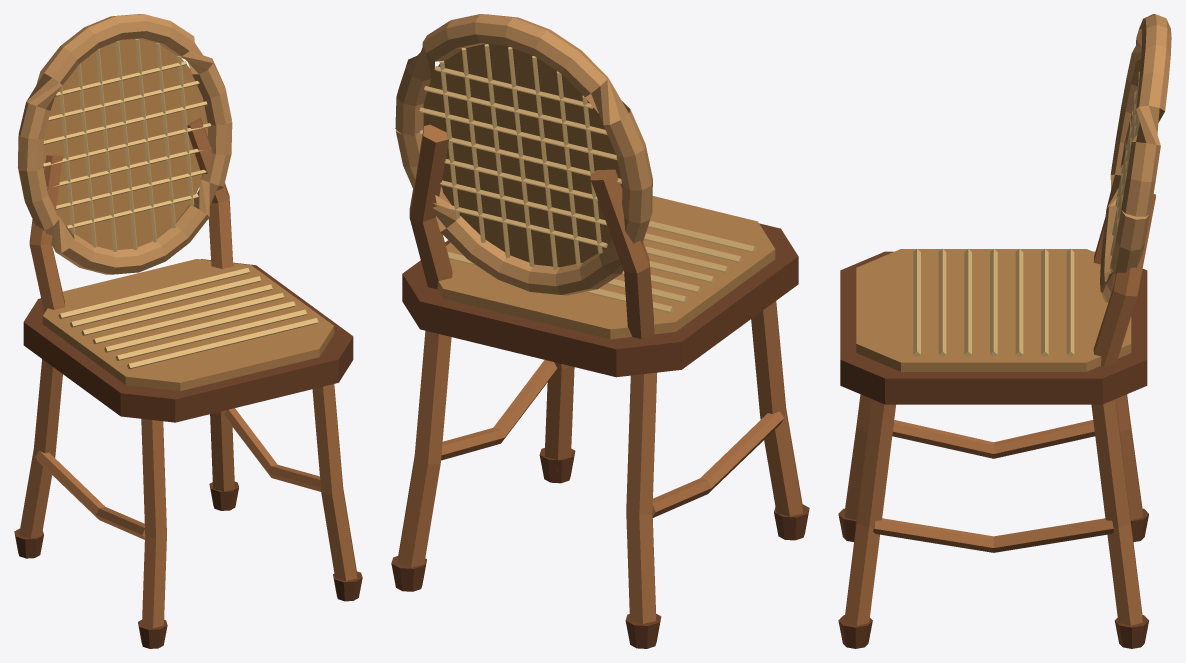
The model's file is dining-chair.glb.
3 views of the same model, side by side, from view 1: azimuth 30°, elevation 25°; view 2: azimuth 150°, elevation 25°; view 3: azimuth 270°, elevation 25° (orthographic). The views are drawn at different scales.
Parts seen in each view (by area): view 1: dining-chair; view 2: dining-chair; view 3: dining-chair.
Boxes of the visible parts, box(x1,y1,x2,y2) form: dining-chair: box(14, 14, 362, 648); dining-chair: box(391, 14, 809, 648); dining-chair: box(838, 14, 1171, 648).
Size of the model in its own units: 0.47 by 0.976 by 0.521.
